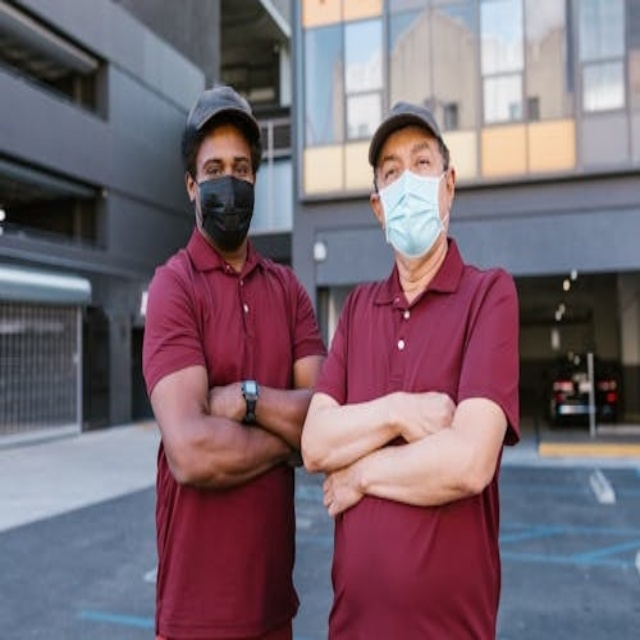Mascara: (378, 167, 449, 256), (194, 174, 255, 249)
Sin_gafas: (376, 148, 438, 183), (196, 152, 256, 183)
Sin_guantes: (321, 462, 366, 519)
